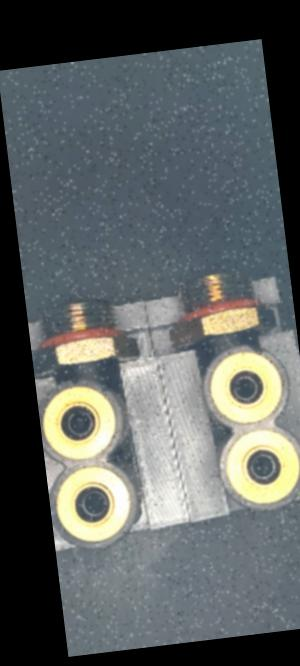bump: (66, 377, 88, 393), (245, 342, 268, 357), (98, 383, 111, 397)
